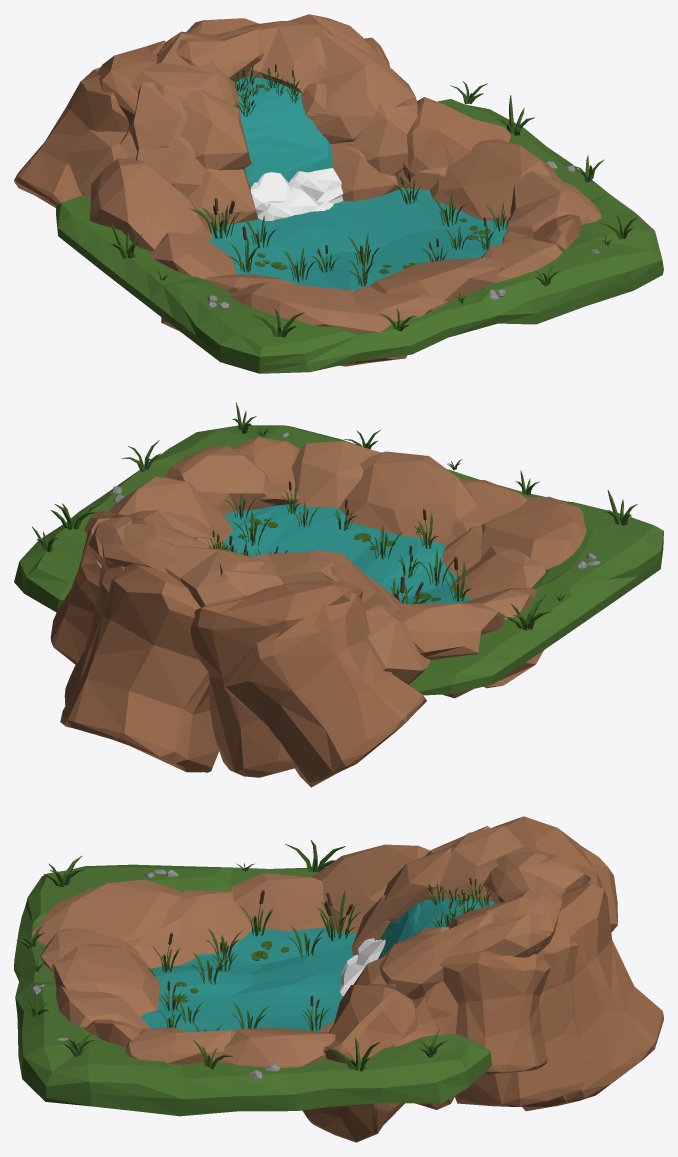
The picture shows the model from 3 angles, top to bottom: view 1: azimuth 30°, elevation 25°; view 2: azimuth 150°, elevation 25°; view 3: azimuth 270°, elevation 25°; orthographic projection. The views are drawn at different scales.
Parts seen in each view (by area): view 1: Waterfall_Foam_Icosphere.087; view 2: Waterfall_Foam_Icosphere.087; view 3: Waterfall_Foam_Icosphere.087.
Part boxes in pixels (bbox=[...]): Waterfall_Foam_Icosphere.087: bbox=[14, 14, 663, 373]; Waterfall_Foam_Icosphere.087: bbox=[14, 402, 663, 787]; Waterfall_Foam_Icosphere.087: bbox=[14, 816, 663, 1142].
Size of the model in its own units: 26.53 by 11.8 by 31.35.
Materials: 1 (1 with a texture image).
